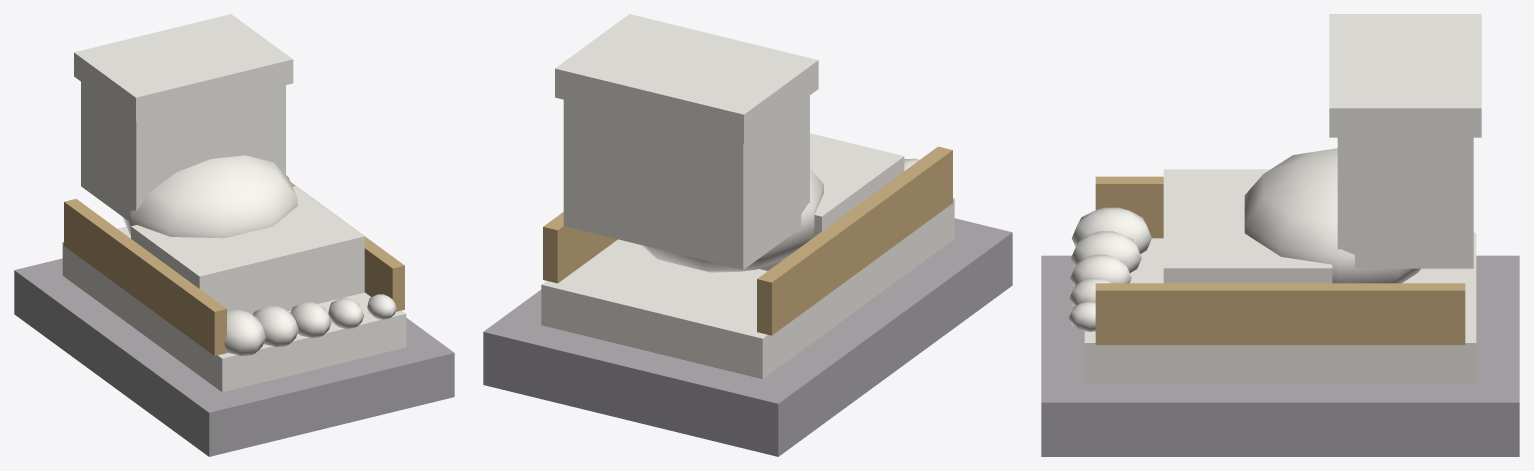
File: mythic-underworld-and-olympus-monumental-foot-5d7120b9__21408.glb
The picture shows the model from 3 angles, left to right: view 1: azimuth 30°, elevation 25°; view 2: azimuth 150°, elevation 25°; view 3: azimuth 270°, elevation 25°; orthographic projection. The views are drawn at different scales.
Visible parts, largest first — view 1: monumental-foot; view 2: monumental-foot; view 3: monumental-foot.
Part boxes in pixels (x1=…): monumental-foot: x1=14, y1=14, x2=454, y2=456; monumental-foot: x1=483, y1=14, x2=1012, y2=456; monumental-foot: x1=1041, y1=14, x2=1519, y2=456.
Size of the model in its own units: 3.2 by 3.27 by 4.4.
